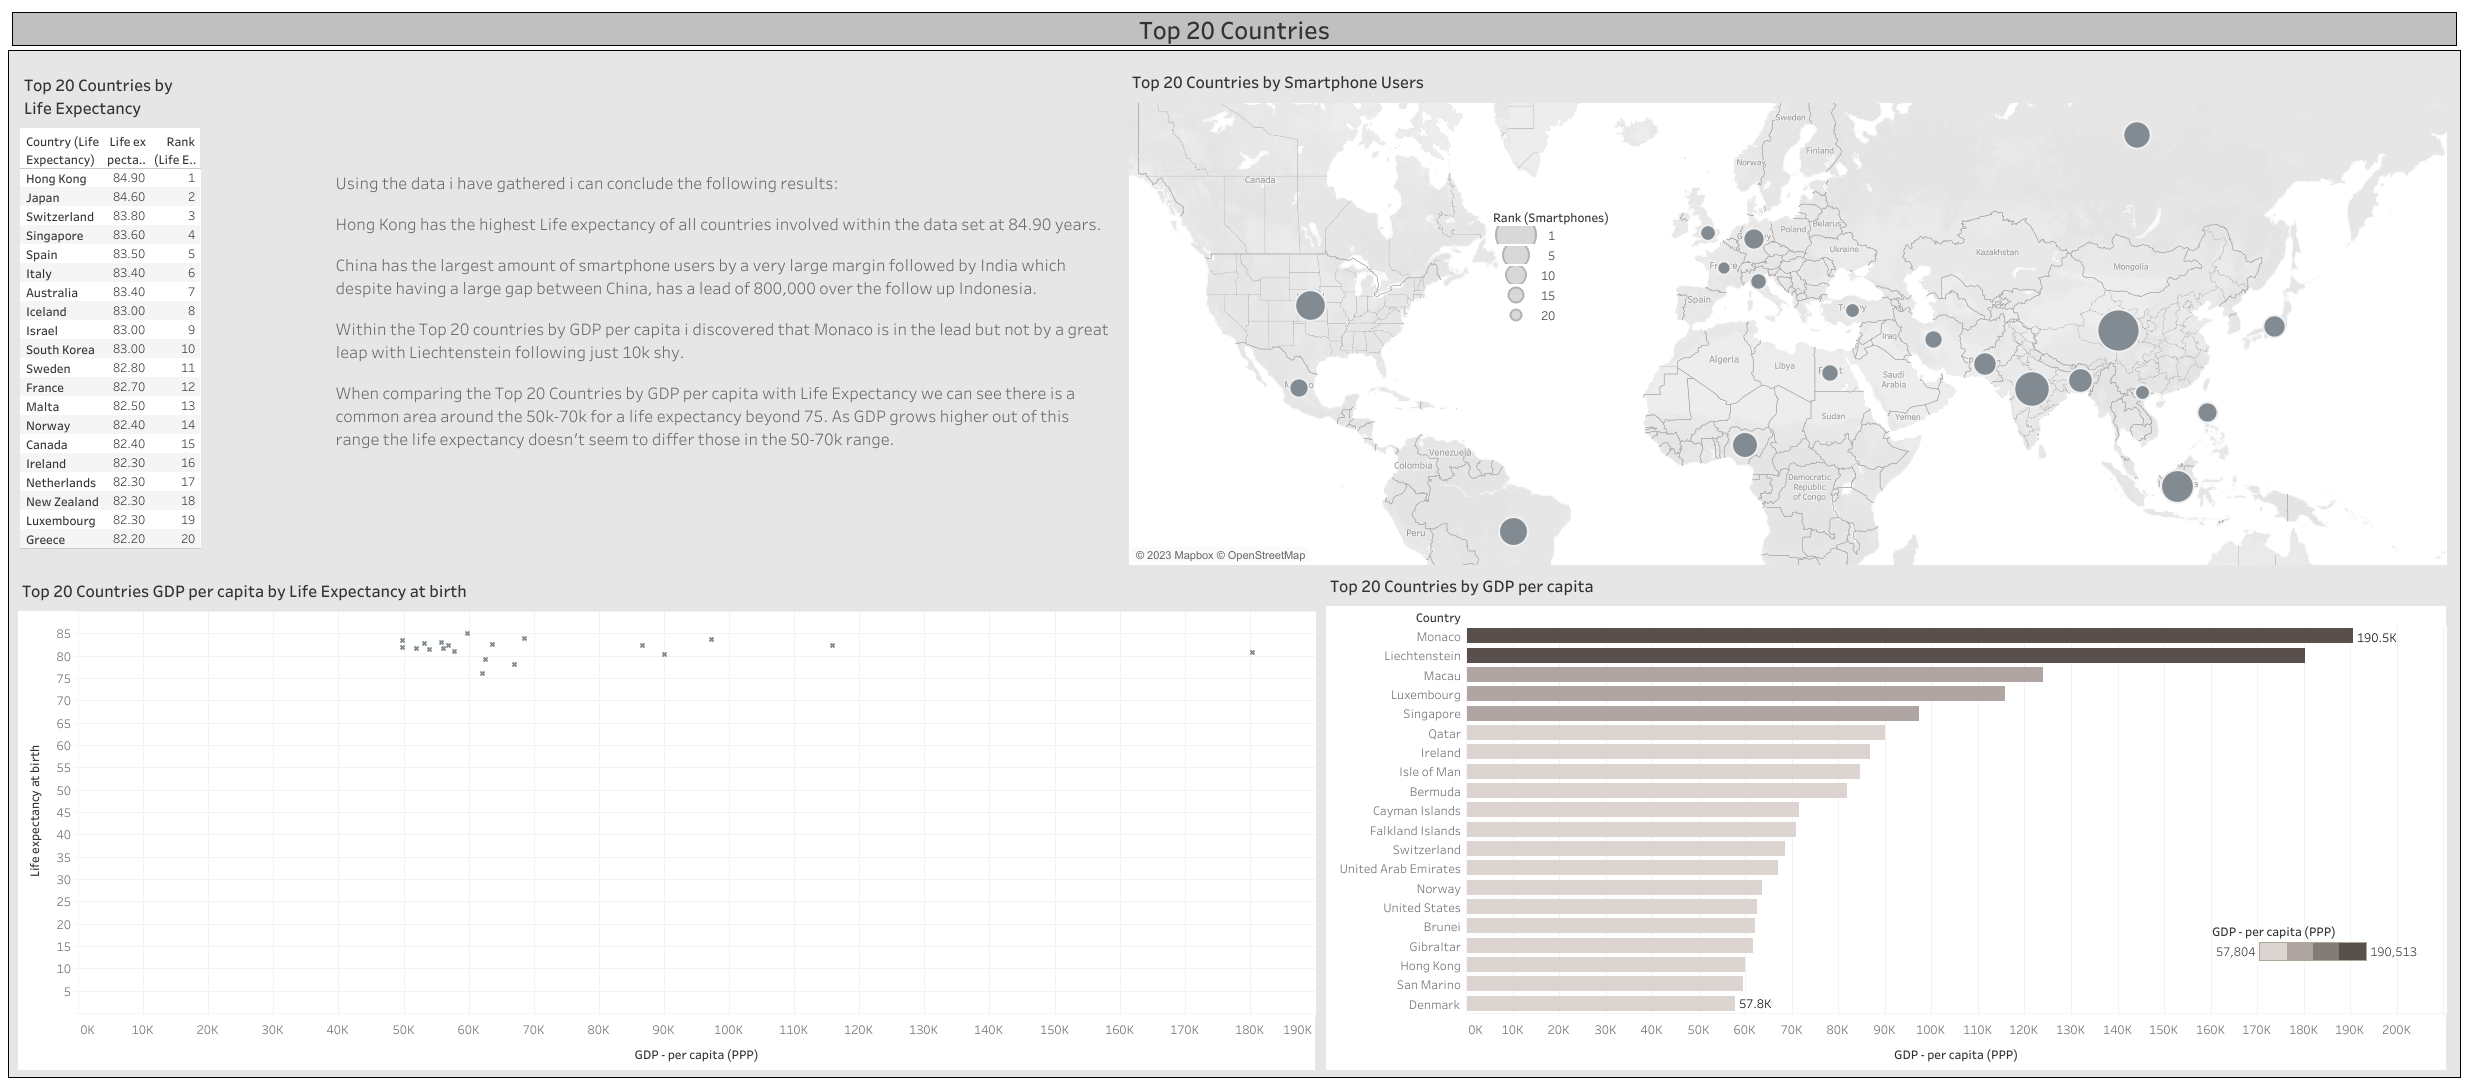

This screenshot's page, from the dashboard's own definition file:
{"tool":"tableau","page":{"name":"Top 20 Countries","canvas":[1000,1000],"units":"permille","ordinal":0},"visuals":[{"type":"title","box":[4.9,8.9,990.2,45.8]},{"type":"worksheet","title":"Top 20 Countries by Smartphone Users","mark":"Automatic","box":[456.9,59.1,534.5,462.1]},{"type":"worksheet","title":"Top 20 Countries by Life Expectancy","mark":"Automatic","rows":["Country (Life Expectancy)"],"box":[7.9,61.4,127.7,466.5]},{"type":"text","box":[135,62.5,317.7,463.2]},{"type":"legend","title":"Top 20 Countries by Smartphone Users","param":"[federated.1tf4lay1ebfwct10l5gpy1mjie2a].[sum:Rank (Smartphones):qk]","box":[604.1,189.7,49.5,142.9]},{"type":"worksheet","title":"Top 20 Countries by GDP per capita","mark":"Bar","rows":["Country"],"cols":["GDP - per capita (PPP)"],"box":[537,523.4,453.9,462.1]},{"type":"worksheet","title":"Top 20 Countries GDP per capita by Life Expectancy at birth","mark":"Shape","rows":["Life expectancy at birth"],"cols":["GDP - per capita (PPP)"],"box":[7.3,527.9,525.4,457.6]},{"type":"legend","title":"Top 20 Countries by GDP per capita","param":"[federated.1tf4lay1ebfwct10l5gpy1mjie2a].[sum:GDP - per capita (PPP):qk]","box":[895.9,844.9,85.2,84.8]}]}

Visuals, with their boxes on the dashboard's canvas, which has no fixed pixel size, in thousandths of its width and height (x1, y1, x2, y2). These are canvas units, not pixel positions in the 2468x1085 screenshot, which may show the page scaled, cropped or inside an application window:
title: 5:9:995:55
"Top 20 Countries by Smartphone Users" worksheet: 457:59:991:521
"Top 20 Countries by Life Expectancy" worksheet: 8:61:136:528
text: 135:62:453:526
"Top 20 Countries by Smartphone Users" legend: 604:190:654:333
"Top 20 Countries by GDP per capita" worksheet (Bar marks): 537:523:991:986
"Top 20 Countries GDP per capita by Life Expectancy at birth" worksheet (Shape marks): 7:528:533:986
"Top 20 Countries by GDP per capita" legend: 896:845:981:930
